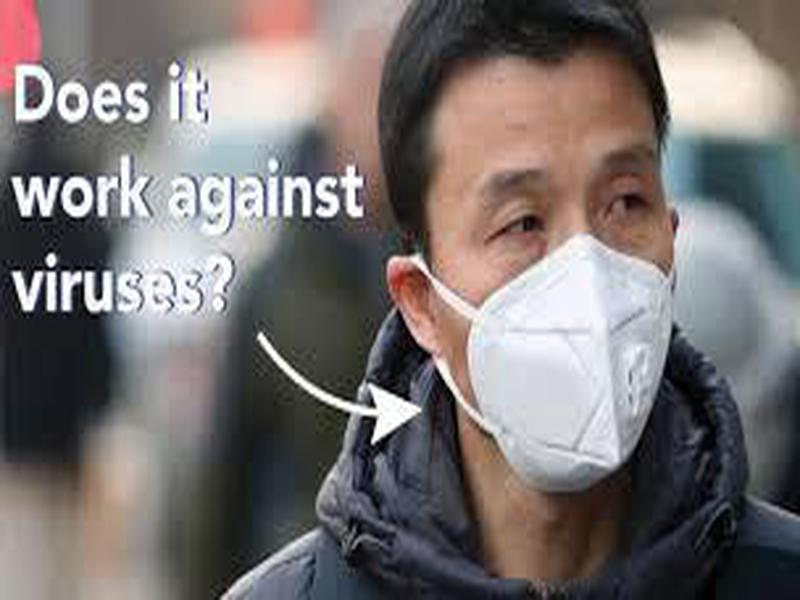with_mask: (376, 2, 680, 494)
